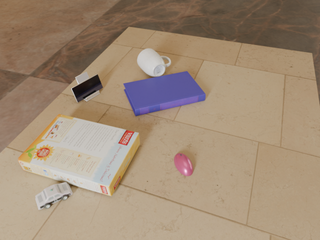book: (124, 71, 205, 116)
box: (18, 114, 140, 196)
cup: (137, 49, 171, 77)
mouse: (174, 153, 193, 176)
phone: (71, 74, 103, 102)
toy_car: (36, 182, 73, 210)
